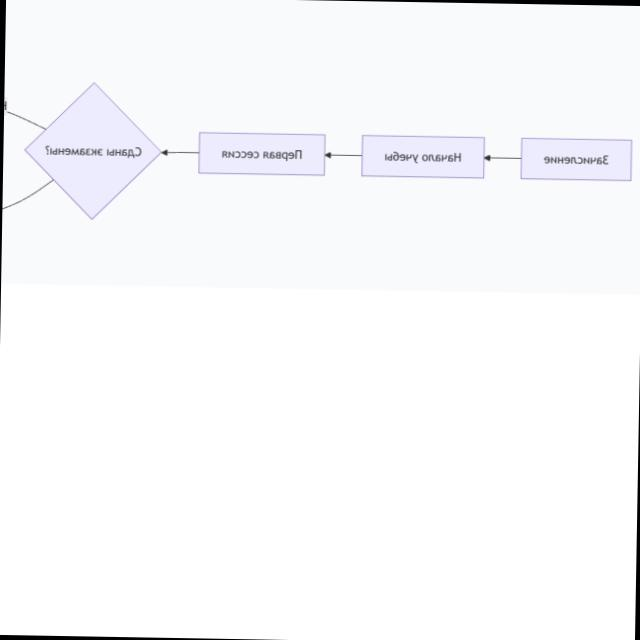arrow: (484, 153, 522, 163), (161, 148, 199, 158), (324, 151, 361, 160)
diamond: (23, 83, 160, 220)
rectangle: (198, 132, 324, 176), (361, 135, 484, 179), (520, 138, 631, 181)
